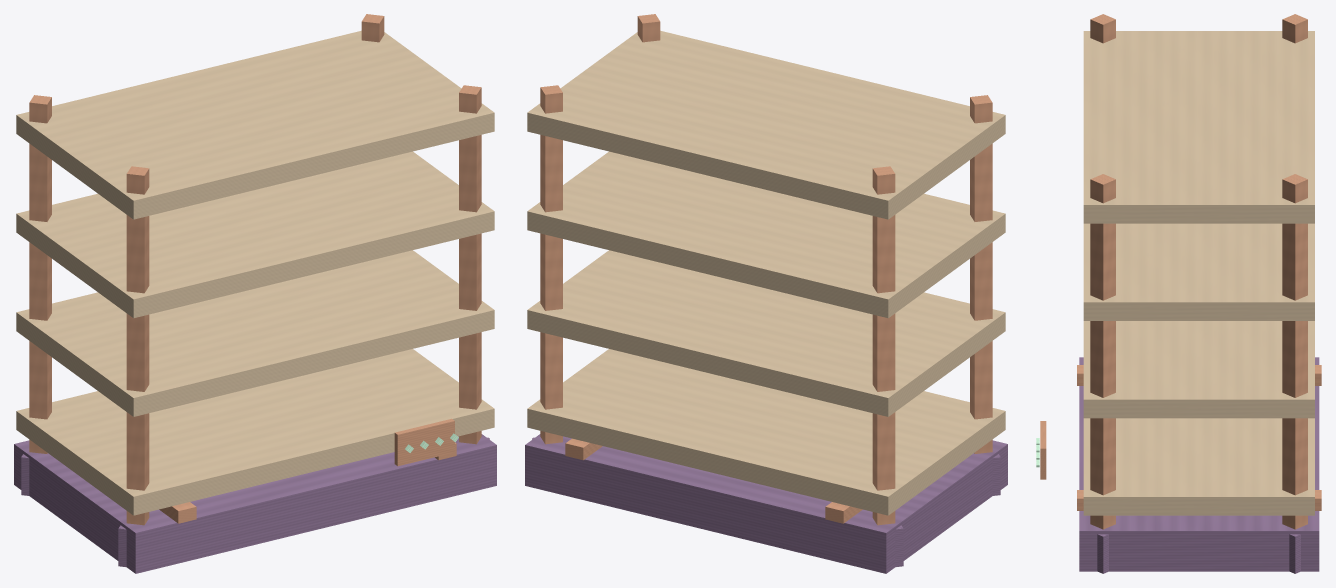
Rendered from atlas100-s088-a06.glb.
3 renders of one model, left to right at view 1: azimuth 30°, elevation 25°; view 2: azimuth 150°, elevation 25°; view 3: azimuth 270°, elevation 25°, orthographic.
Visible parts, largest first — view 1: atlas100-s088-a06:part-014, atlas100-s088-a06:part-012, atlas100-s088-a06:part-013, atlas100-s088-a06:part-011, atlas100-s088-a06:part-000, atlas100-s088-a06:part-005, atlas100-s088-a06:part-009, atlas100-s088-a06:part-003, atlas100-s088-a06:part-015, atlas100-s088-a06:part-007; view 2: atlas100-s088-a06:part-014, atlas100-s088-a06:part-012, atlas100-s088-a06:part-013, atlas100-s088-a06:part-011, atlas100-s088-a06:part-000, atlas100-s088-a06:part-003, atlas100-s088-a06:part-007, atlas100-s088-a06:part-005, atlas100-s088-a06:part-009; view 3: atlas100-s088-a06:part-014, atlas100-s088-a06:part-012, atlas100-s088-a06:part-011, atlas100-s088-a06:part-013, atlas100-s088-a06:part-000, atlas100-s088-a06:part-007, atlas100-s088-a06:part-009, atlas100-s088-a06:part-003, atlas100-s088-a06:part-005, atlas100-s088-a06:part-008, atlas100-s088-a06:part-010, atlas100-s088-a06:part-015.
Boxes of the visible parts, box(x1,y1,x2,y2) form: atlas100-s088-a06:part-014: box(16, 30, 494, 219); atlas100-s088-a06:part-012: box(16, 250, 494, 416); atlas100-s088-a06:part-013: box(16, 151, 494, 318); atlas100-s088-a06:part-011: box(16, 349, 494, 515); atlas100-s088-a06:part-000: box(14, 434, 496, 573); atlas100-s088-a06:part-005: box(126, 166, 149, 525); atlas100-s088-a06:part-009: box(459, 85, 481, 444); atlas100-s088-a06:part-003: box(29, 95, 51, 453); atlas100-s088-a06:part-015: box(394, 418, 454, 466); atlas100-s088-a06:part-007: box(361, 14, 384, 42); atlas100-s088-a06:part-014: box(527, 30, 1005, 219); atlas100-s088-a06:part-012: box(527, 250, 1005, 416); atlas100-s088-a06:part-013: box(527, 151, 1005, 318); atlas100-s088-a06:part-011: box(527, 349, 1005, 515); atlas100-s088-a06:part-000: box(525, 434, 1007, 573); atlas100-s088-a06:part-003: box(872, 166, 895, 525); atlas100-s088-a06:part-007: box(540, 85, 562, 444); atlas100-s088-a06:part-005: box(970, 95, 992, 453); atlas100-s088-a06:part-009: box(637, 14, 660, 42); atlas100-s088-a06:part-014: box(1083, 31, 1314, 223); atlas100-s088-a06:part-012: box(1083, 321, 1314, 418); atlas100-s088-a06:part-011: box(1083, 418, 1314, 515); atlas100-s088-a06:part-013: box(1083, 223, 1314, 320); atlas100-s088-a06:part-000: box(1079, 357, 1319, 571); atlas100-s088-a06:part-007: box(1282, 174, 1307, 529); atlas100-s088-a06:part-009: box(1090, 174, 1115, 529); atlas100-s088-a06:part-003: box(1282, 14, 1307, 43); atlas100-s088-a06:part-005: box(1090, 14, 1115, 43); atlas100-s088-a06:part-008: box(1289, 534, 1300, 573); atlas100-s088-a06:part-010: box(1097, 534, 1108, 573); atlas100-s088-a06:part-015: box(1040, 421, 1046, 479).
Size of the model in its own units: 2.47 by 2.48 by 1.66.
4 materials, 4 textured.
